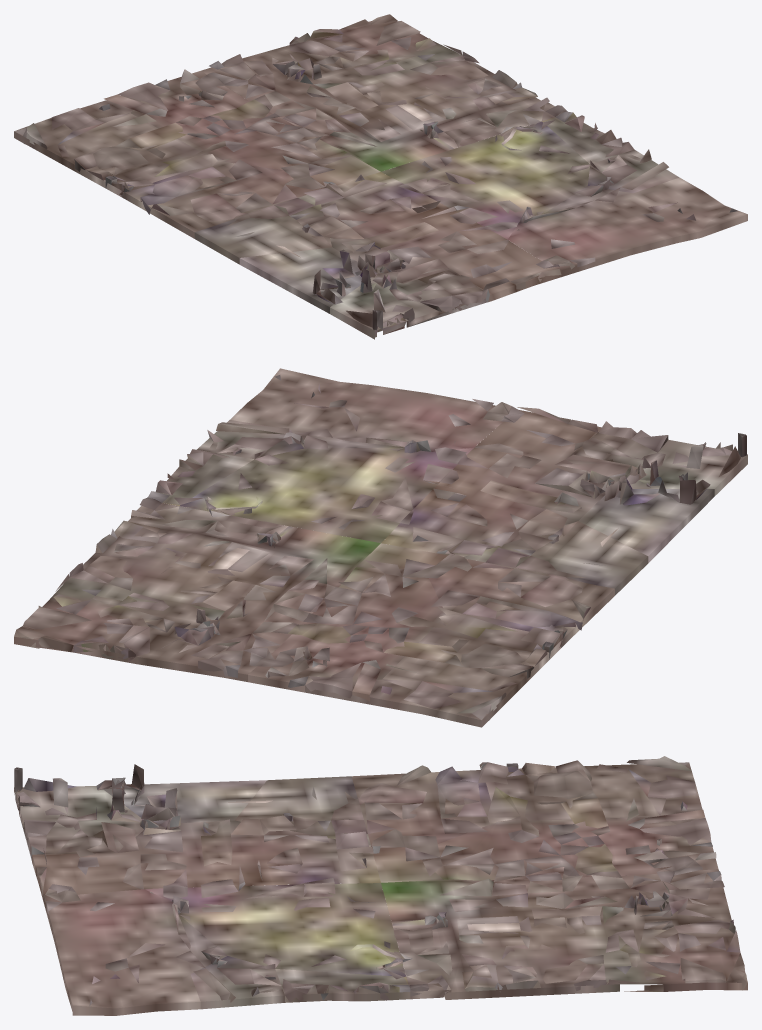
The picture shows the model from 3 angles, top to bottom: view 1: azimuth 30°, elevation 25°; view 2: azimuth 150°, elevation 25°; view 3: azimuth 270°, elevation 25°; orthographic projection. The views are drawn at different scales.
Parts seen in each view (by area): view 1: Mesh_0; view 2: Mesh_0; view 3: Mesh_0.
Part boxes in pixels (<box>): Mesh_0: <box>14,14,747,339</box>; Mesh_0: <box>14,368,747,727</box>; Mesh_0: <box>14,756,747,1015</box>.
Size of the model in its own units: 2129 by 169 by 2636.
1 material, 1 textured.
